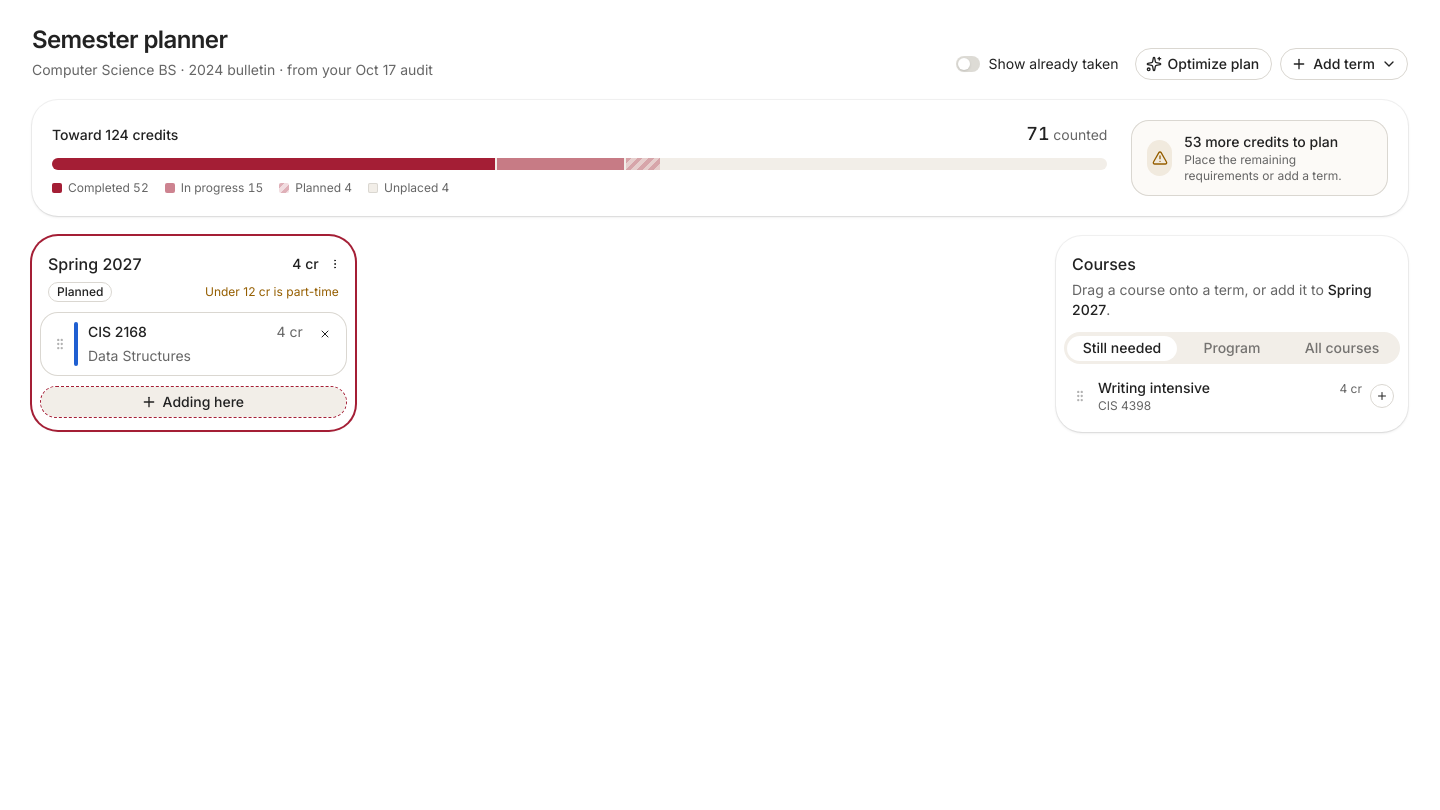
Test: PlanPage › adds any term from the dialog
Click the button "Add term" at (1344, 64), box [1280,48,1408,80]
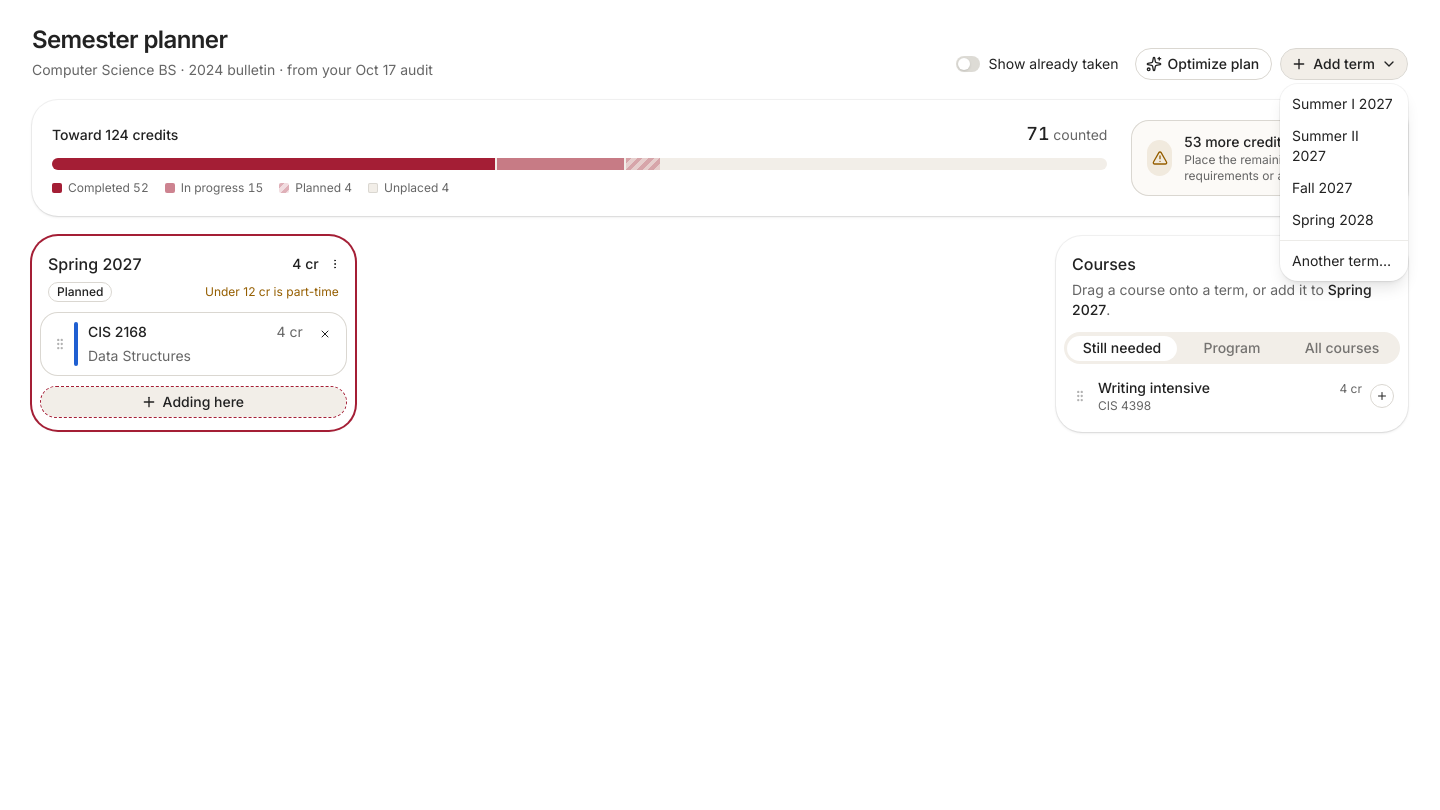
Click the menu item "Another term…" at (1342, 260), box [1292,252,1391,269]
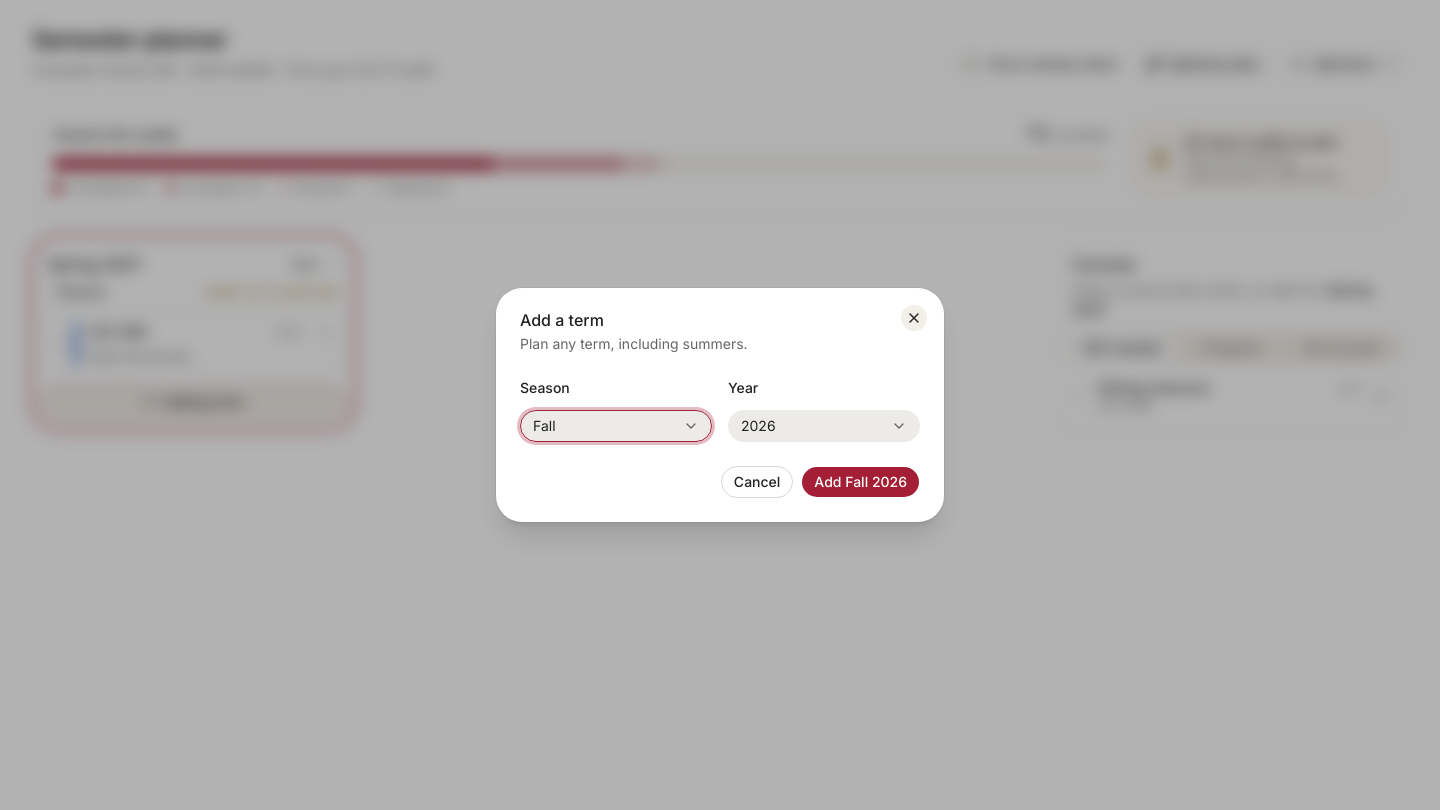
Click the button "Add Fall 2026" at (861, 482), box [801,466,920,498]
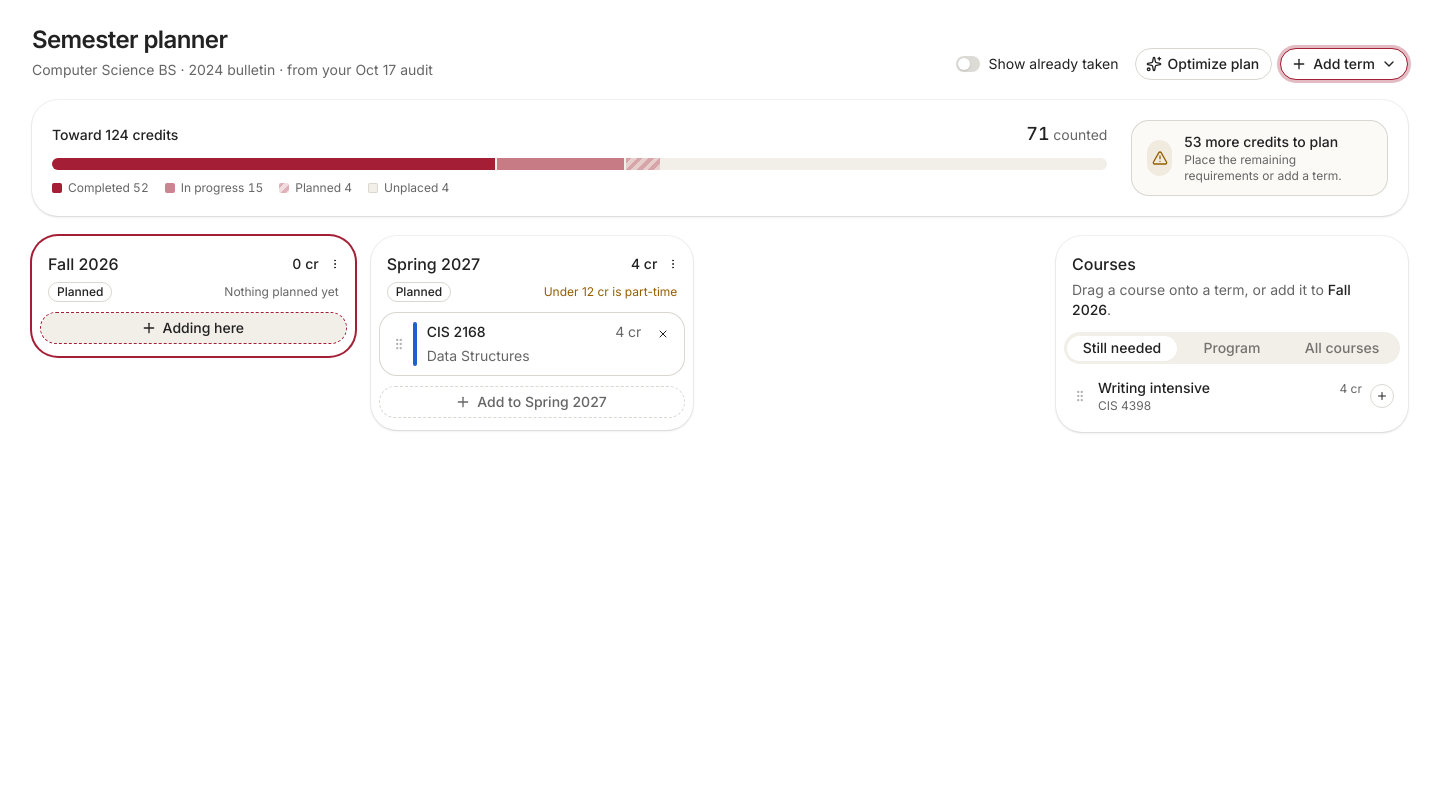
Expected: the element "Fall 2026" is shown, [32,236,355,356]
